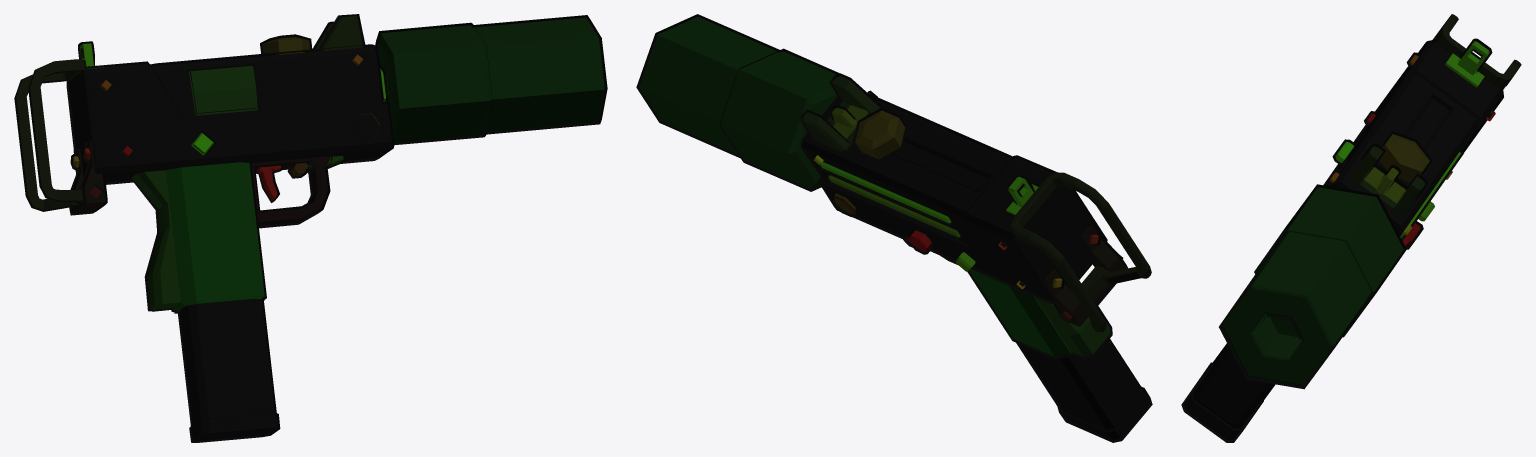
The model's file is mac10.glb.
3 views of the same model, side by side, from view 1: azimuth 30°, elevation 25°; view 2: azimuth 150°, elevation 25°; view 3: azimuth 270°, elevation 25° (orthographic). The views are drawn at different scales.
Visible parts, largest first — view 1: Cube_BlackMetal_0; view 2: Cube_BlackMetal_0; view 3: Cube_BlackMetal_0.
Part boxes in pixels (left/top/right/bottom): Cube_BlackMetal_0: left=14, top=14, right=607, bottom=442; Cube_BlackMetal_0: left=636, top=14, right=1152, bottom=442; Cube_BlackMetal_0: left=1181, top=14, right=1521, bottom=442.
Bounding box in the file's own units: 4 × 2.52 × 2.06.
